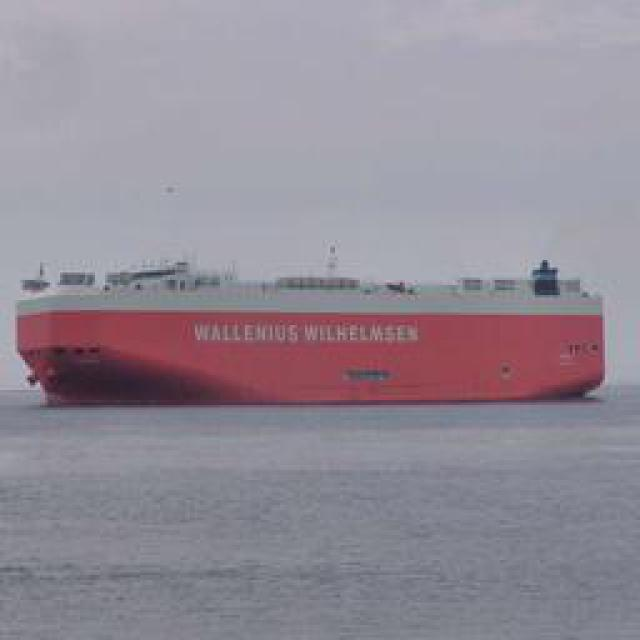Ship: (11, 244, 629, 414)
